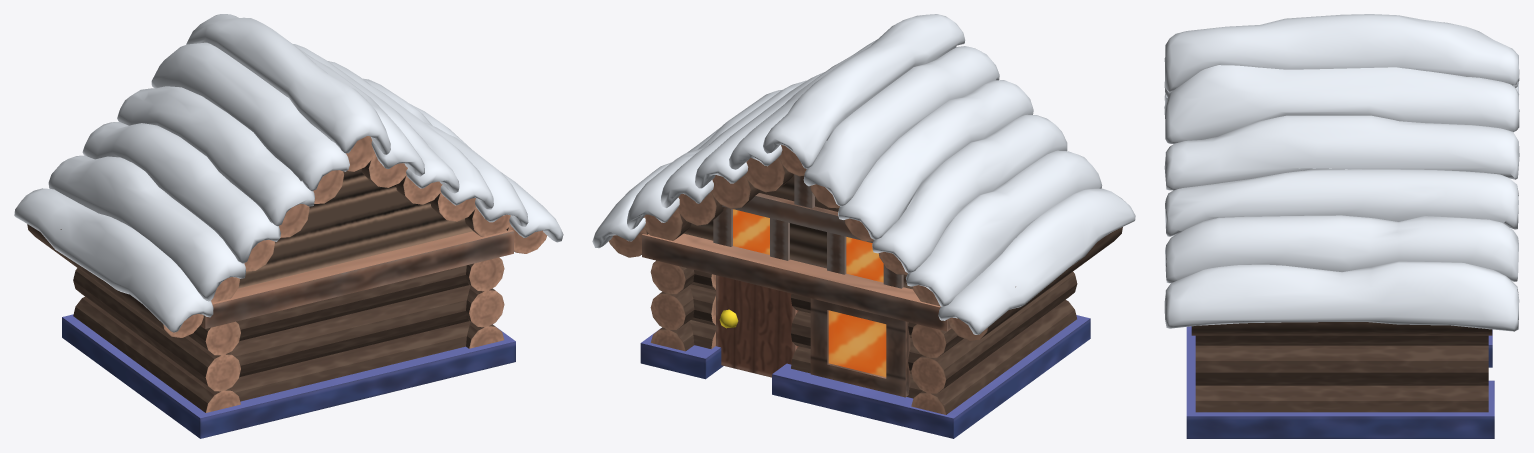
The model's file is cabin_4.glb.
3 renders of one model, left to right at view 1: azimuth 30°, elevation 25°; view 2: azimuth 150°, elevation 25°; view 3: azimuth 270°, elevation 25°, orthographic. The views are drawn at different scales.
Visible parts, largest first — view 1: Snow, Wall Back.006, Base.003, Top of House.003, Wall Right.004, Plank.016, Roof, Wall Left.004; view 2: Snow, Base.003, Wall Right.004, Plank.016, Roof, Door, Window Frame.002, Wall Front.002, Wall Left.004, Window Glow Bottom.002, Top of House.003, Plank.026 (+6 smaller); view 3: Snow, Wall Left.004, Base.003, Roof.
Part boxes in pixels (<box>): Snow: <box>14,14,563,332</box>; Wall Back.006: <box>229,265,470,401</box>; Base.003: <box>62,314,515,438</box>; Top of House.003: <box>238,169,472,288</box>; Wall Right.004: <box>73,268,240,412</box>; Plank.016: <box>200,230,513,328</box>; Roof: <box>27,136,547,337</box>; Wall Left.004: <box>466,257,504,348</box>; Snow: <box>592,14,1135,334</box>; Base.003: <box>640,315,1090,438</box>; Wall Right.004: <box>911,272,1077,414</box>; Plank.016: <box>642,233,951,331</box>; Roof: <box>609,145,1122,340</box>; Door: <box>716,275,798,377</box>; Window Frame.002: <box>810,298,910,397</box>; Wall Front.002: <box>689,270,922,398</box>; Wall Left.004: <box>650,260,694,351</box>; Window Glow Bottom.002: <box>828,310,886,377</box>; Top of House.003: <box>684,174,913,289</box>; Plank.026: <box>722,193,872,242</box>; Snow: <box>1164,14,1519,331</box>; Wall Left.004: <box>1195,335,1488,412</box>; Base.003: <box>1186,326,1494,438</box>; Roof: <box>1191,322,1492,335</box>.
Size of the model in its own units: 6.92 by 5.05 by 4.85.
9 materials, 8 textured.
